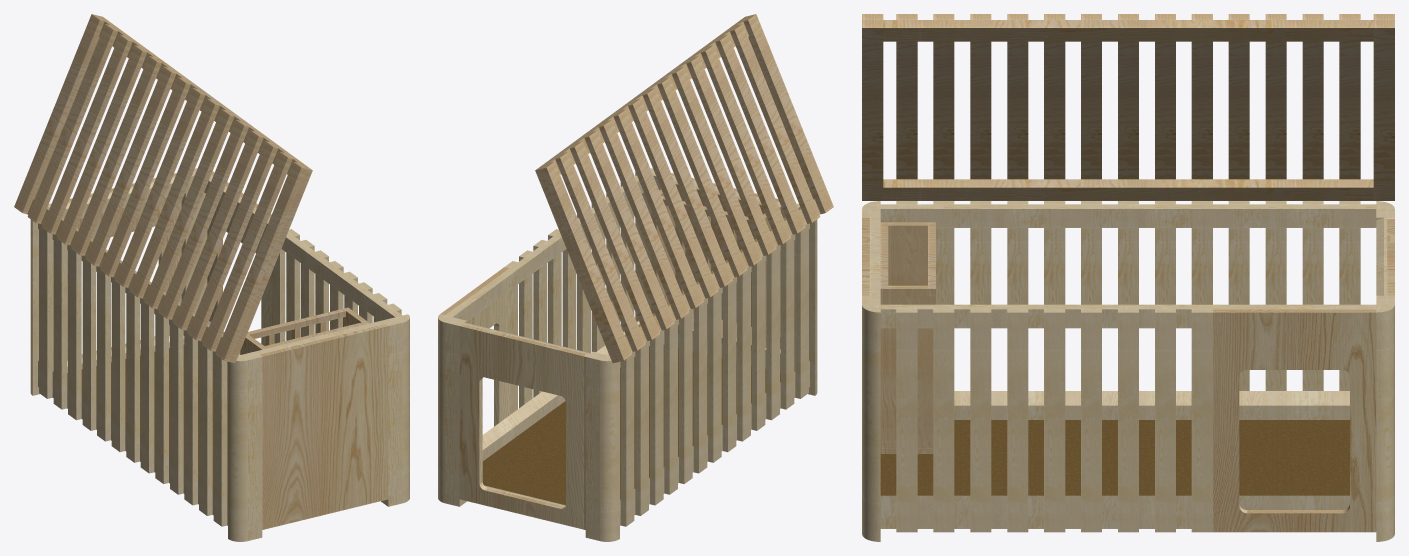
File: madriguera-estefania.glb
3 views of the same model, side by side, from view 1: azimuth 30°, elevation 25°; view 2: azimuth 150°, elevation 25°; view 3: azimuth 270°, elevation 25° (orthographic). The views are drawn at different scales.
Bounding box in the file's own units: 0.5317 × 0.957 × 1.01.
5 materials, 4 textured.
